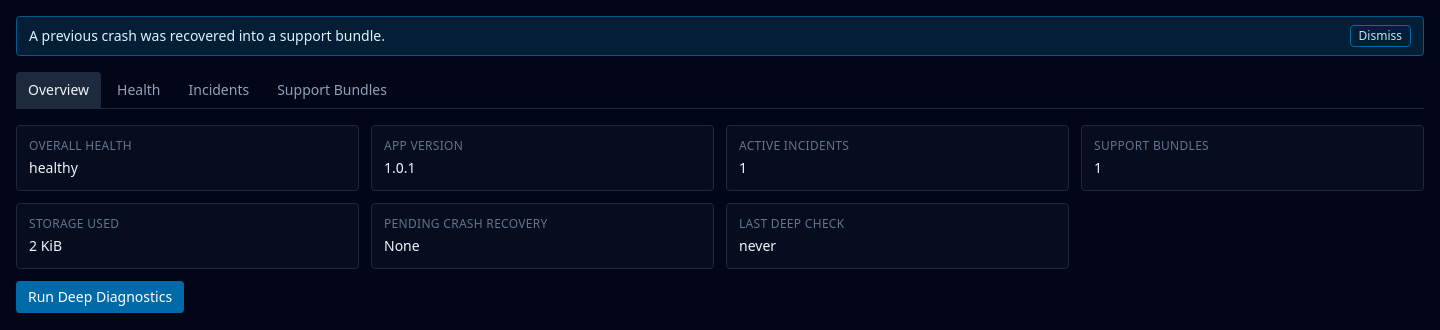
DiagnosticsPage › incidents render occurrence counts and review state as text
Click the tab "Incidents": (219, 90) [176,72,261,108]
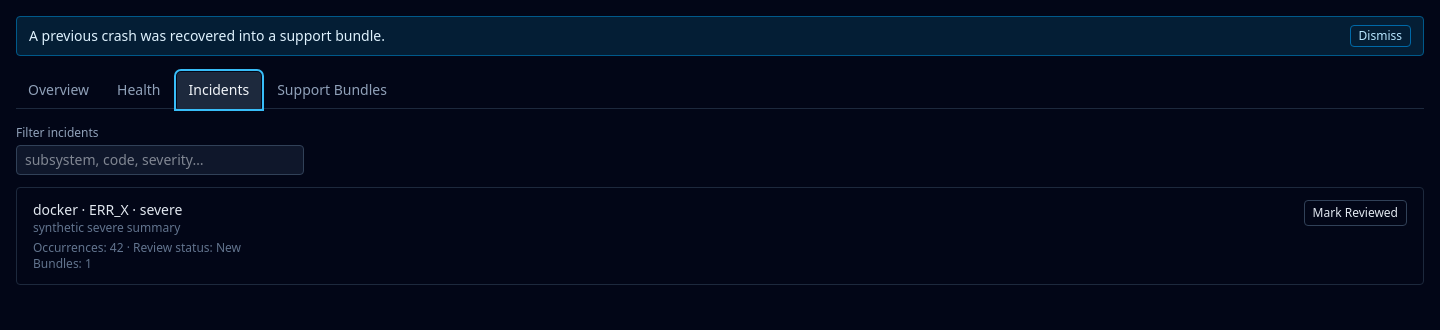
expect the text "Occurrences: 42 · Review status: New" is shown: met, box [33,240,241,256]
expect the text "docker · ERR_X · severe" is shown: met, box [33,200,182,219]
